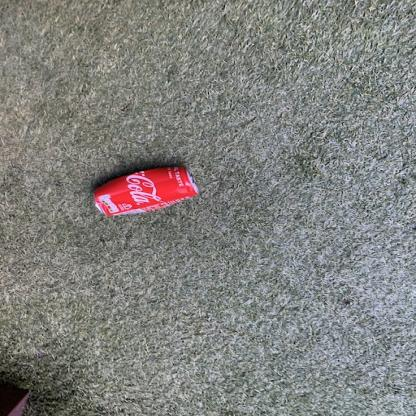trash: (84, 163, 202, 221)
